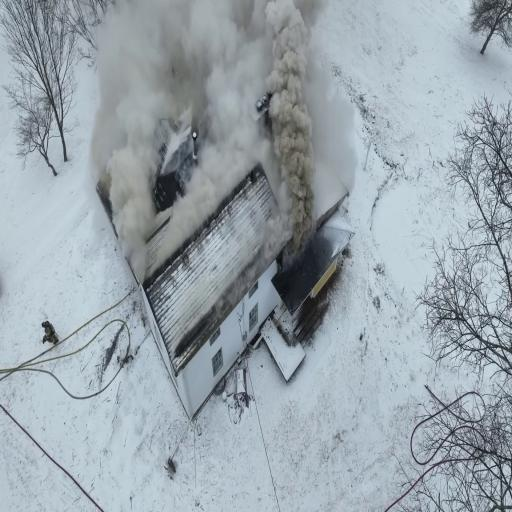smoke: (263, 55, 310, 240)
